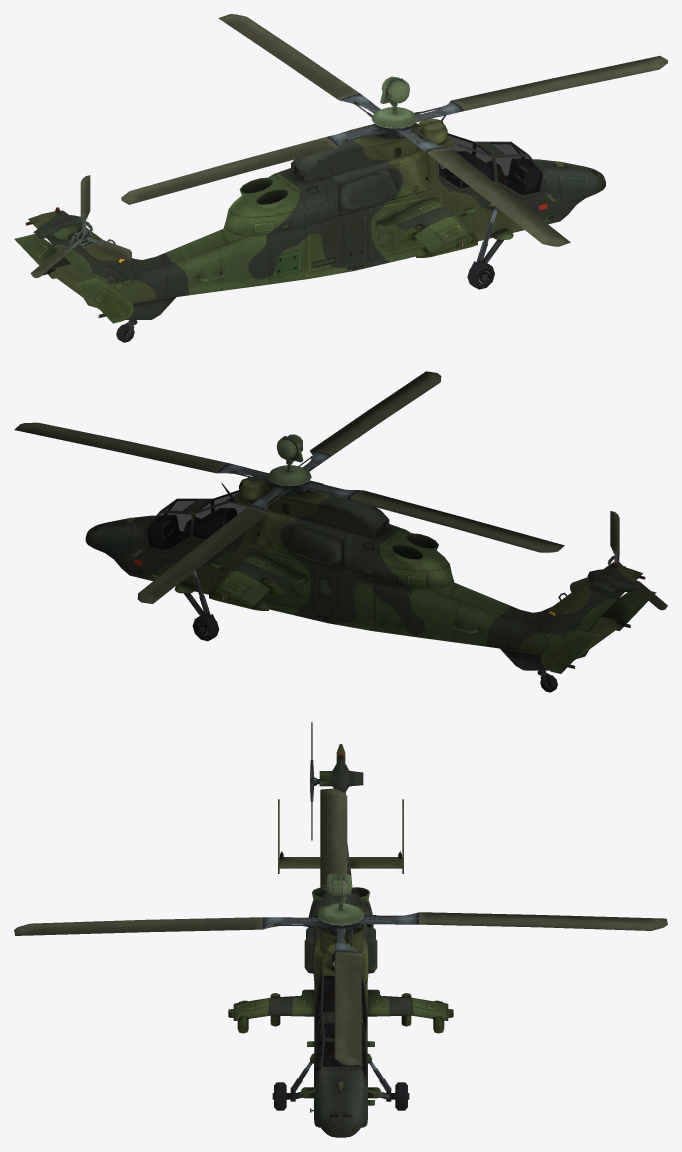
The model's file is heli_tiger.glb.
The picture shows the model from 3 angles, top to bottom: view 1: azimuth 30°, elevation 25°; view 2: azimuth 150°, elevation 25°; view 3: azimuth 270°, elevation 25°; orthographic projection. The views are drawn at different scales.
Visible parts, largest first — view 1: mesh_389_mat_40_0, mesh_394_mat_43_0; view 2: mesh_389_mat_40_0, mesh_394_mat_43_0; view 3: mesh_389_mat_40_0, mesh_394_mat_43_0.
Part boxes in pixels (x1,y1,x2,y2): mesh_389_mat_40_0: [14, 14, 667, 342]; mesh_394_mat_43_0: [438, 134, 542, 195]; mesh_389_mat_40_0: [14, 371, 667, 692]; mesh_394_mat_43_0: [146, 490, 247, 550]; mesh_389_mat_40_0: [14, 722, 667, 1137]; mesh_394_mat_43_0: [315, 967, 366, 1079].
Bounding box in the file's own units: 156 × 45.91 × 132.
2 materials, 2 textured.
